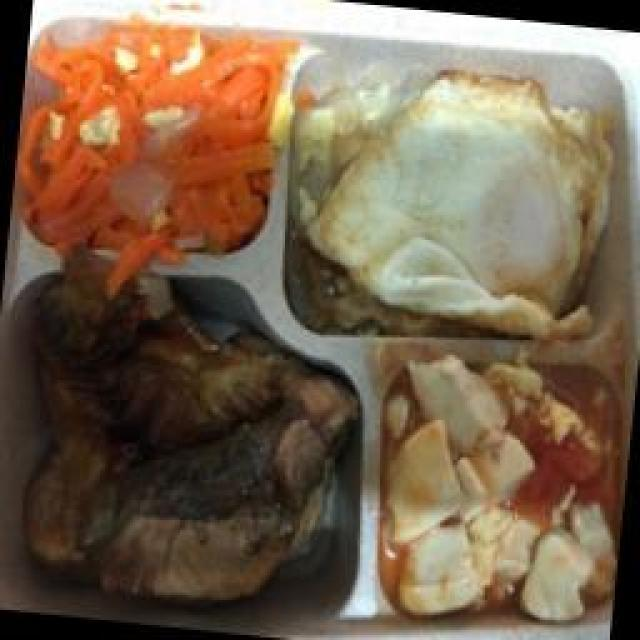carrot_eggs: (20, 18, 283, 261)
fried_eggs: (298, 55, 621, 348)
